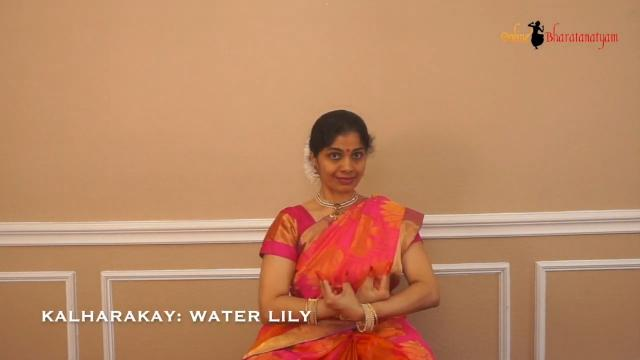kangul: (304, 264, 364, 324), (355, 250, 405, 302)
